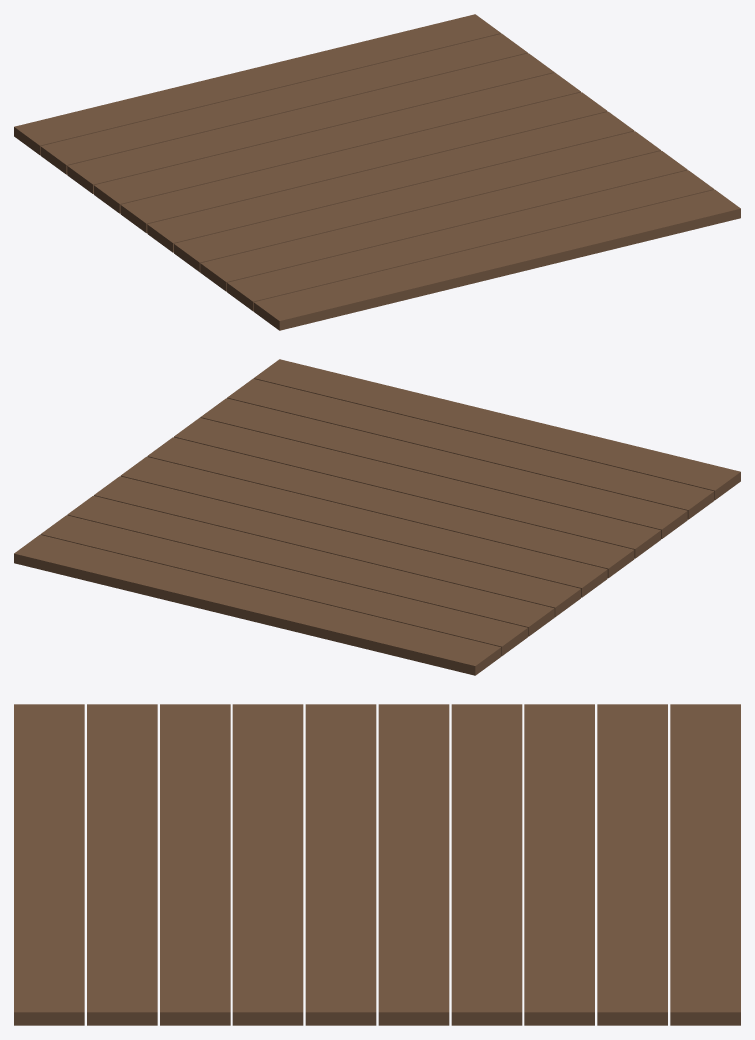
Rendered from Floor.glb.
The picture shows the model from 3 angles, top to bottom: view 1: azimuth 30°, elevation 25°; view 2: azimuth 150°, elevation 25°; view 3: azimuth 270°, elevation 25°; orthographic projection. The views are drawn at different scales.
Visible parts, largest first — view 1: Floor; view 2: Floor; view 3: Floor.
Boxes of the visible parts, box(x1,y1,x2,y2) form: Floor: box(14, 14, 740, 330); Floor: box(14, 359, 740, 675); Floor: box(14, 704, 740, 1025).
Bounding box in the file's own units: 2 × 0.04 × 1.99.
